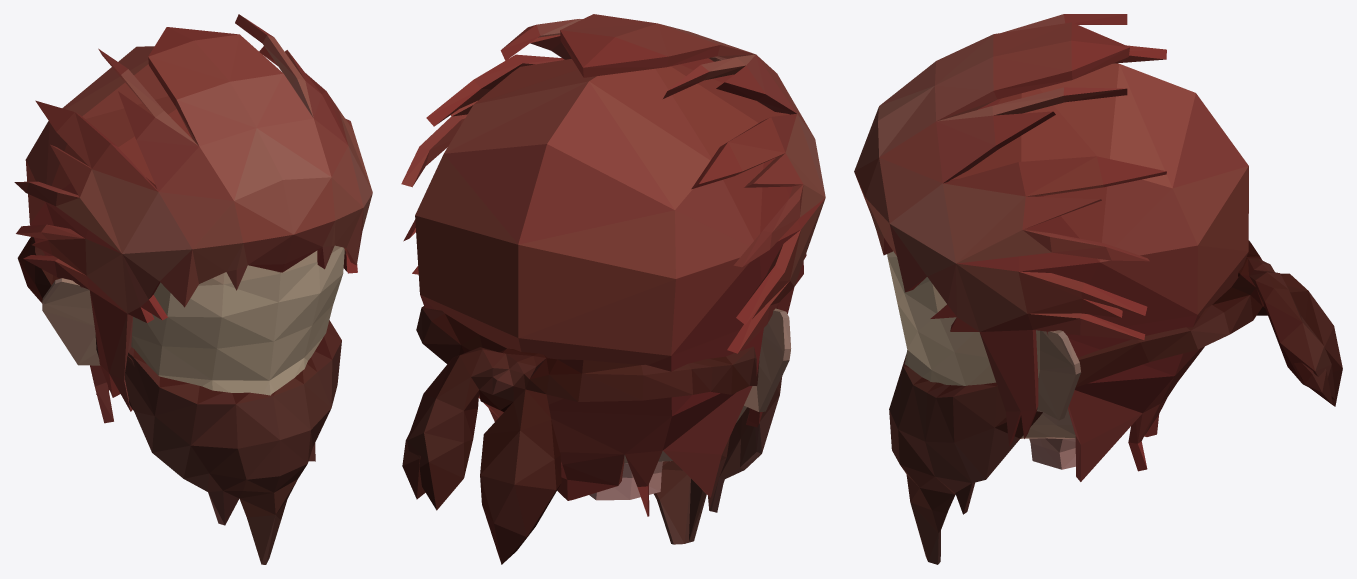
The model's file is helm_lightskin_spike_red_bandana.fbx.
3 renders of one model, left to right at view 1: azimuth 30°, elevation 25°; view 2: azimuth 150°, elevation 25°; view 3: azimuth 270°, elevation 25°, orthographic. The views are drawn at different scales.
Visible parts, largest first — view 1: helm_lightskin_spike_red_bandana; view 2: helm_lightskin_spike_red_bandana; view 3: helm_lightskin_spike_red_bandana.
Boxes of the visible parts, x1,y1,x2,y2 form: helm_lightskin_spike_red_bandana: [14, 14, 372, 564]; helm_lightskin_spike_red_bandana: [401, 14, 825, 564]; helm_lightskin_spike_red_bandana: [854, 14, 1342, 564].
Bounding box in the file's own units: 1.13 × 1.71 × 1.46.
